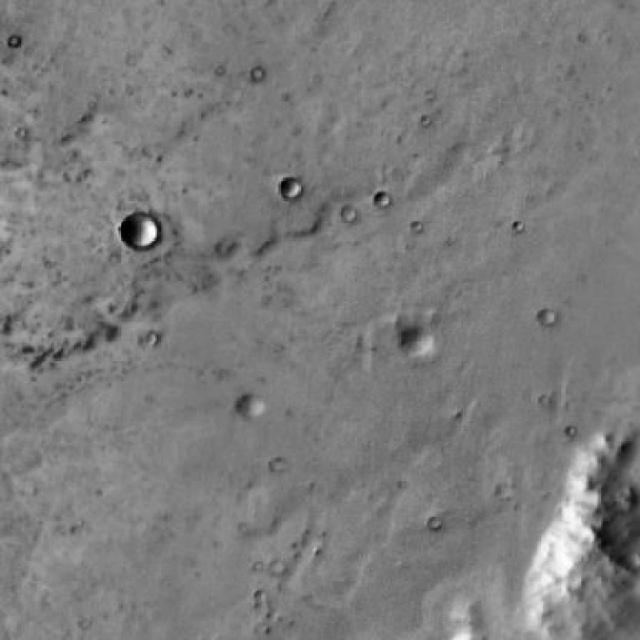crater: (600, 432, 640, 570), (398, 323, 440, 362), (124, 218, 159, 250), (242, 393, 270, 419), (279, 180, 301, 198), (539, 312, 559, 328)
